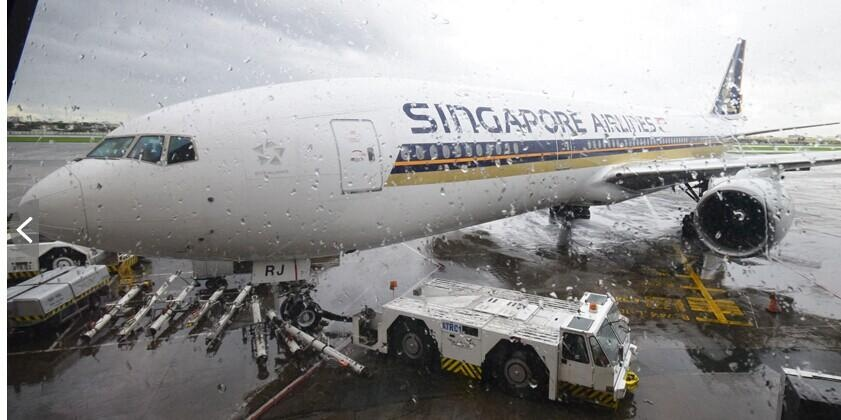airplane: (27, 29, 807, 262)
